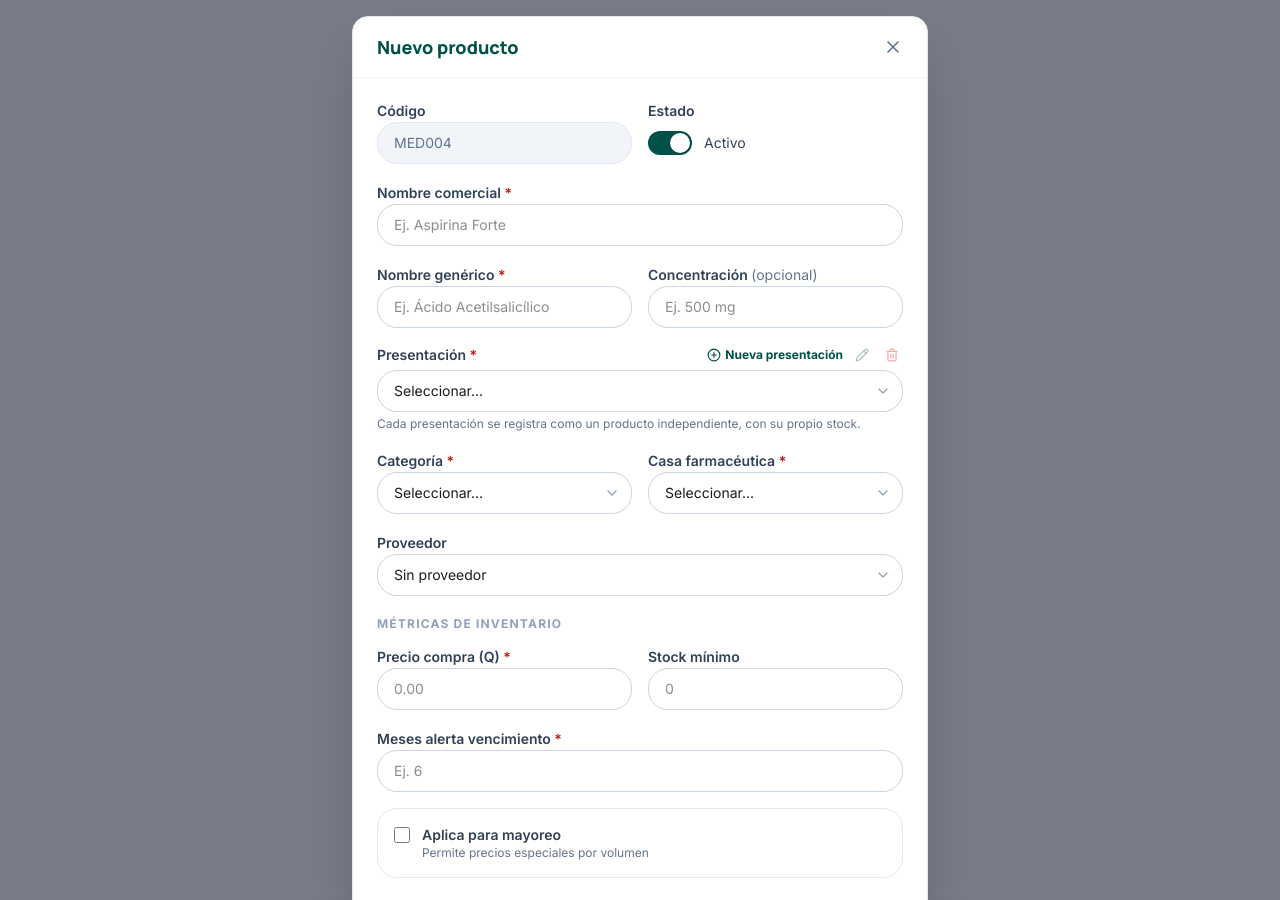
Test: ProductoFormModal › solicita confirmación y elimina una presentación sin productos asociados
Select "Blíster" in the dropdown labelled "Presentación *" at [640, 391], box [377,370,903,412]
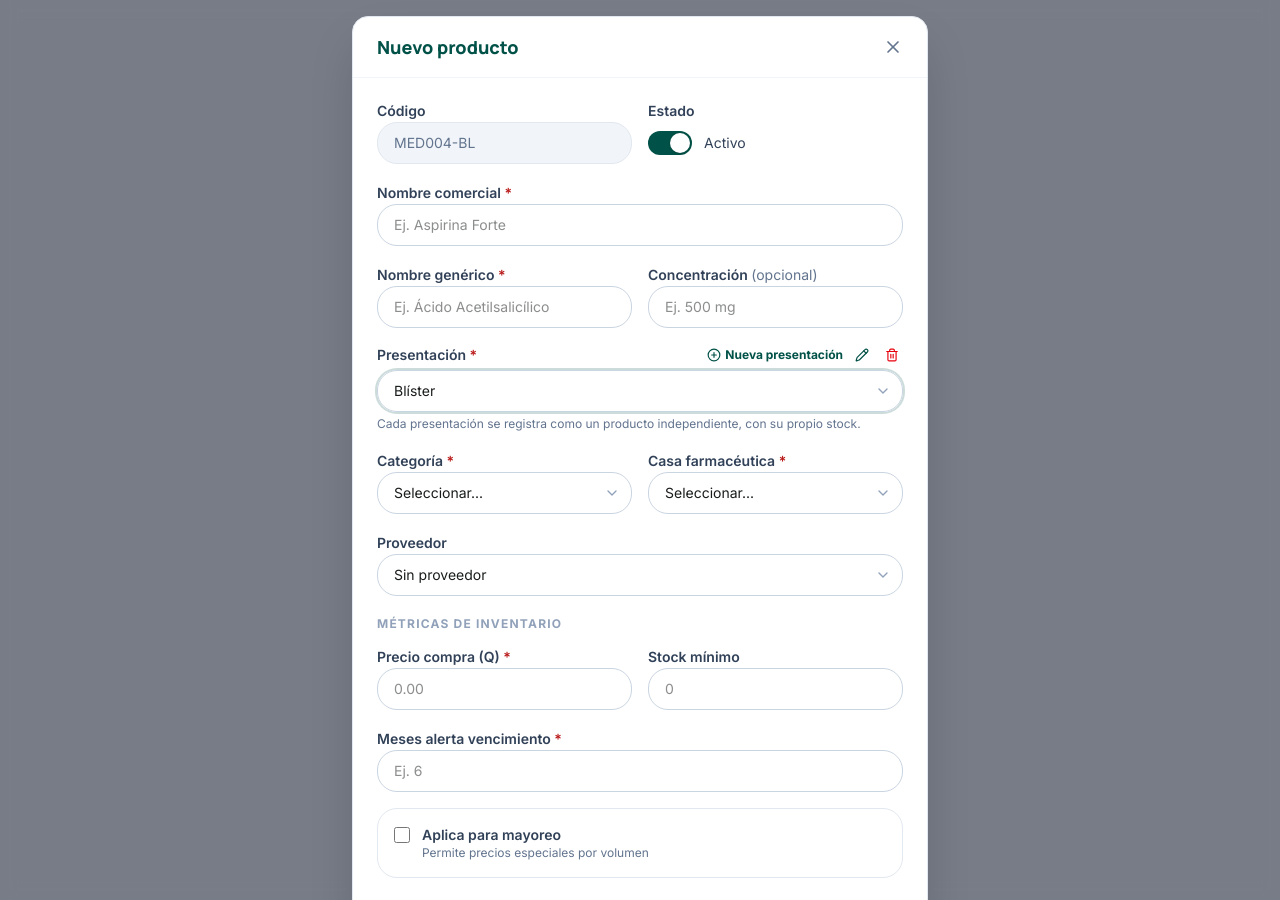
Click the button named "Eliminar presentación seleccionada" at [892, 355], box [881,344,903,366]
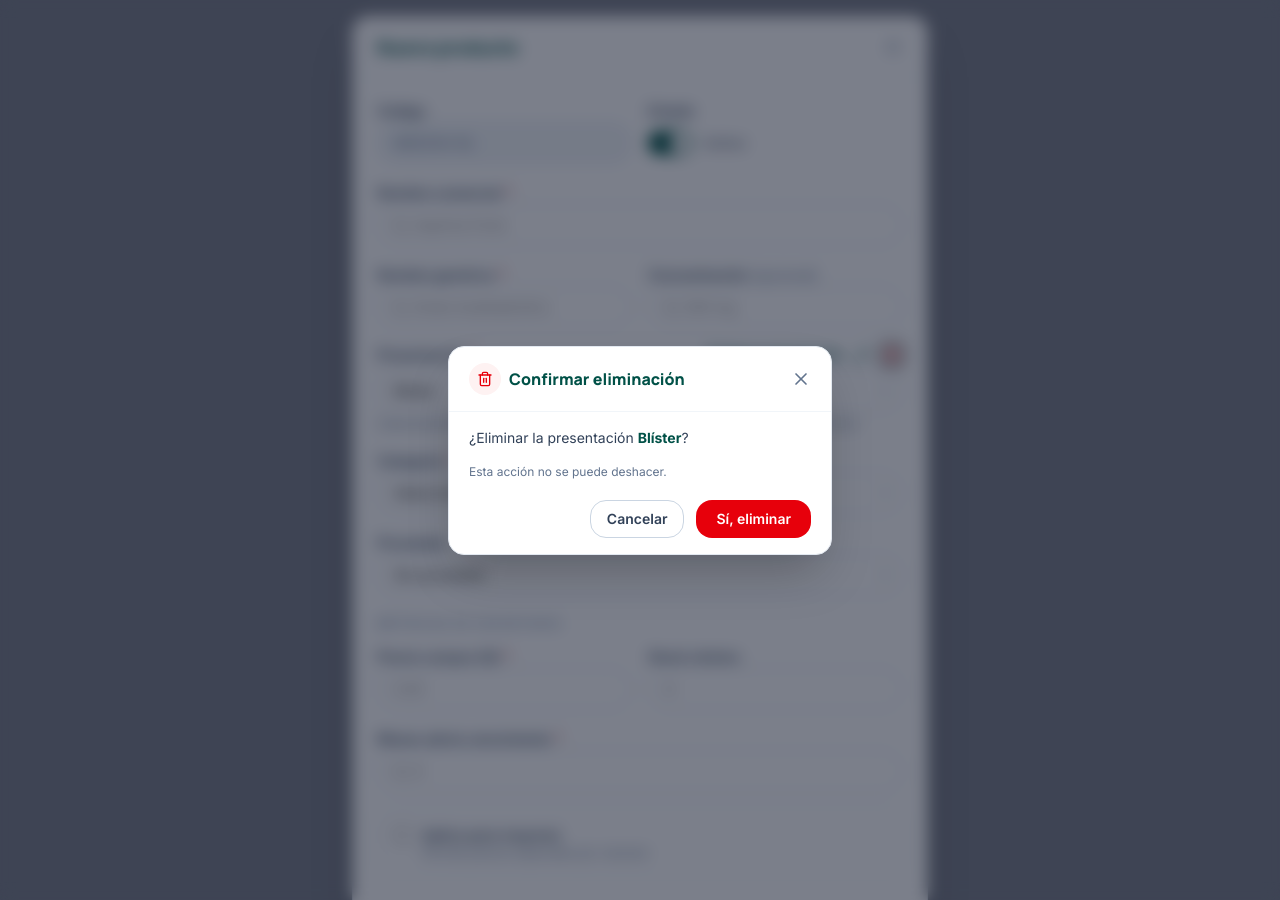
Now the heading "Confirmar eliminación" is shown, box [509,366,685,390]
Click the button "Sí, eliminar" at [754, 518], box [696,500,811,538]
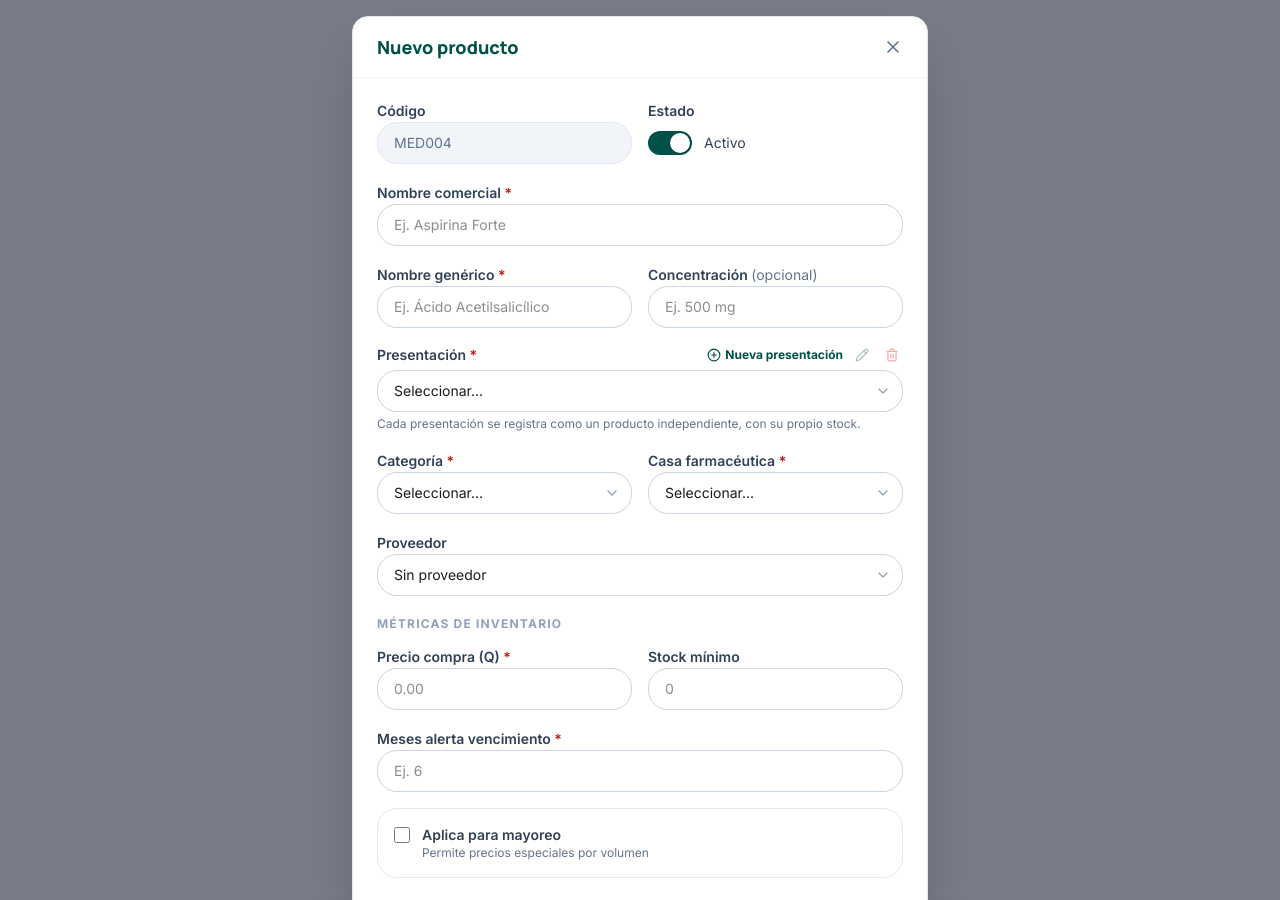
Now the text "Blíster" is gone
